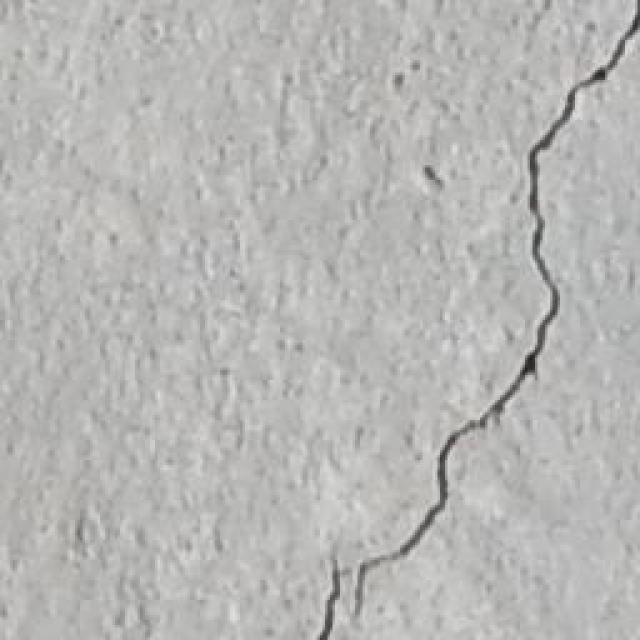concrete-crack: (349, 3, 640, 605), (318, 559, 348, 640)
